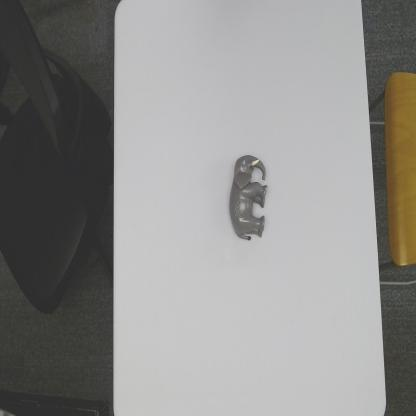Elephant: (229, 154, 268, 242)
